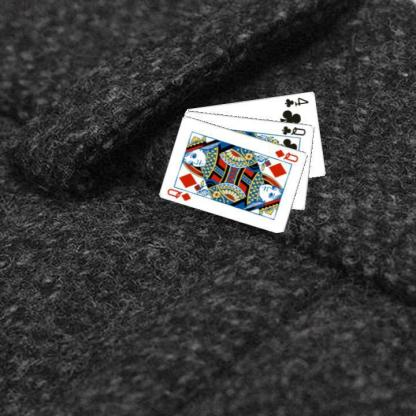4C: (282, 95, 310, 108)
QC: (279, 123, 307, 136)
QD: (272, 146, 300, 164), (165, 186, 192, 202)
